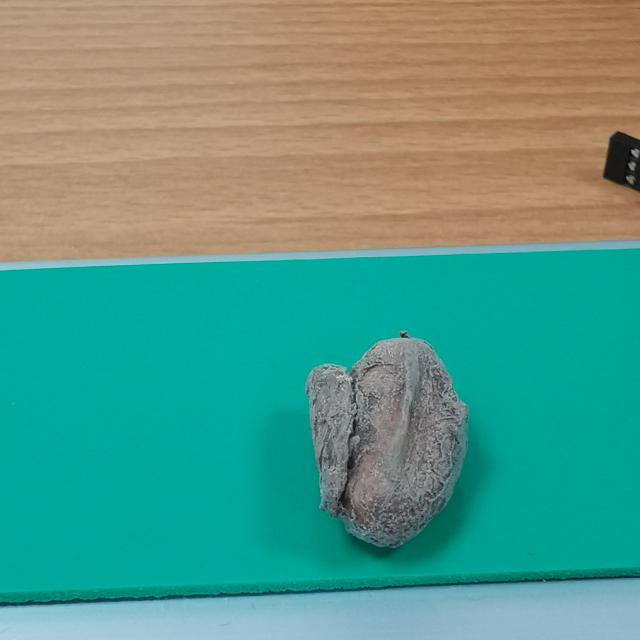Agglomerated_cocoabeans: (221, 308, 570, 588)
